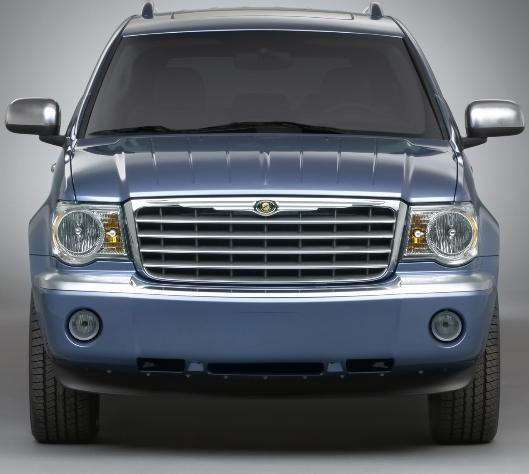front_view: (53, 177, 476, 389)
headlight: (395, 199, 476, 287)
